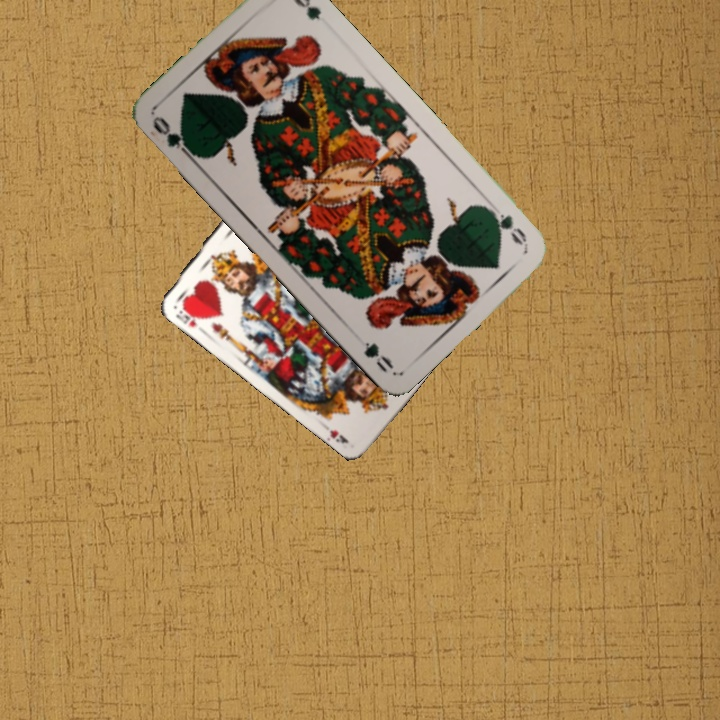GO: (148, 112, 199, 162), (482, 204, 530, 248)
HK: (172, 301, 202, 330)
